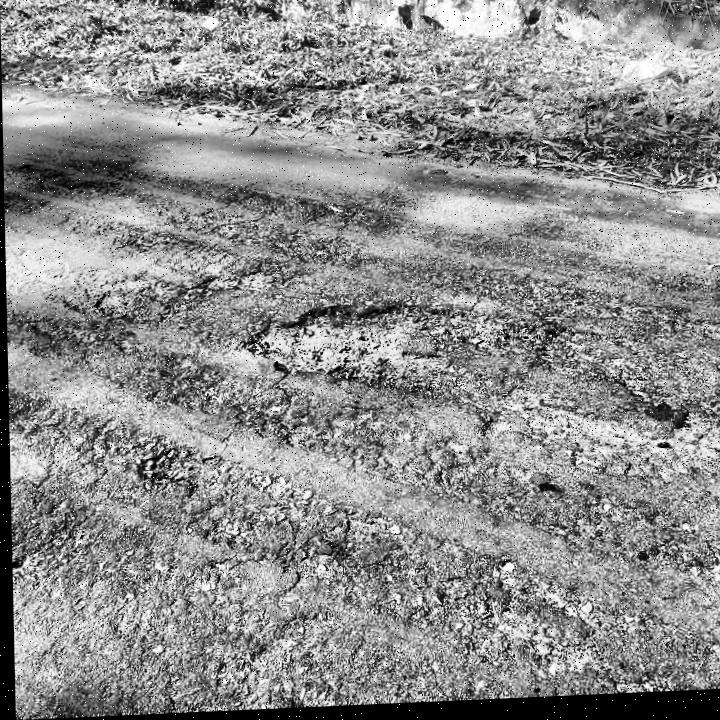pothole: (237, 296, 534, 403), (132, 445, 220, 502)
